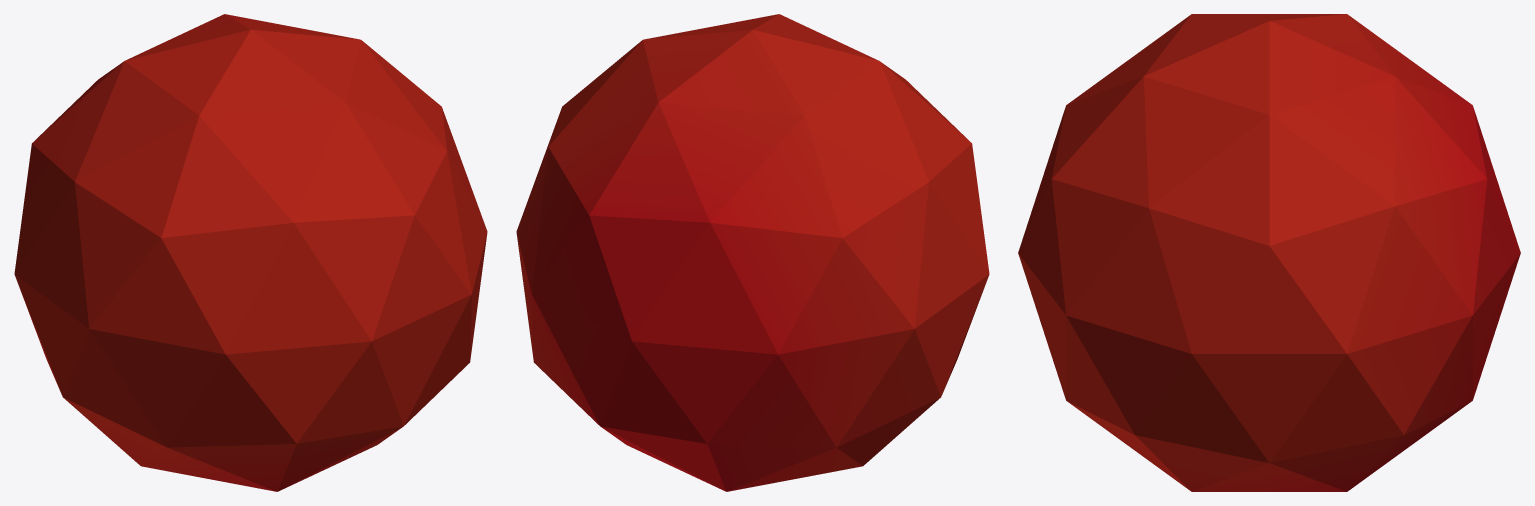
File: Soccer ball.fbx
3 renders of one model, left to right at view 1: azimuth 30°, elevation 25°; view 2: azimuth 150°, elevation 25°; view 3: azimuth 270°, elevation 25°, orthographic. The views are drawn at different scales.
Parts seen in each view (by area): view 1: Icosphere; view 2: Icosphere; view 3: Icosphere.
Boxes of the visible parts, x1,y1,x2,y2 form: Icosphere: (14,14,487,491); Icosphere: (516,14,989,491); Icosphere: (1018,14,1520,491).
Bounding box in the file's own units: 158 × 170 × 166.
